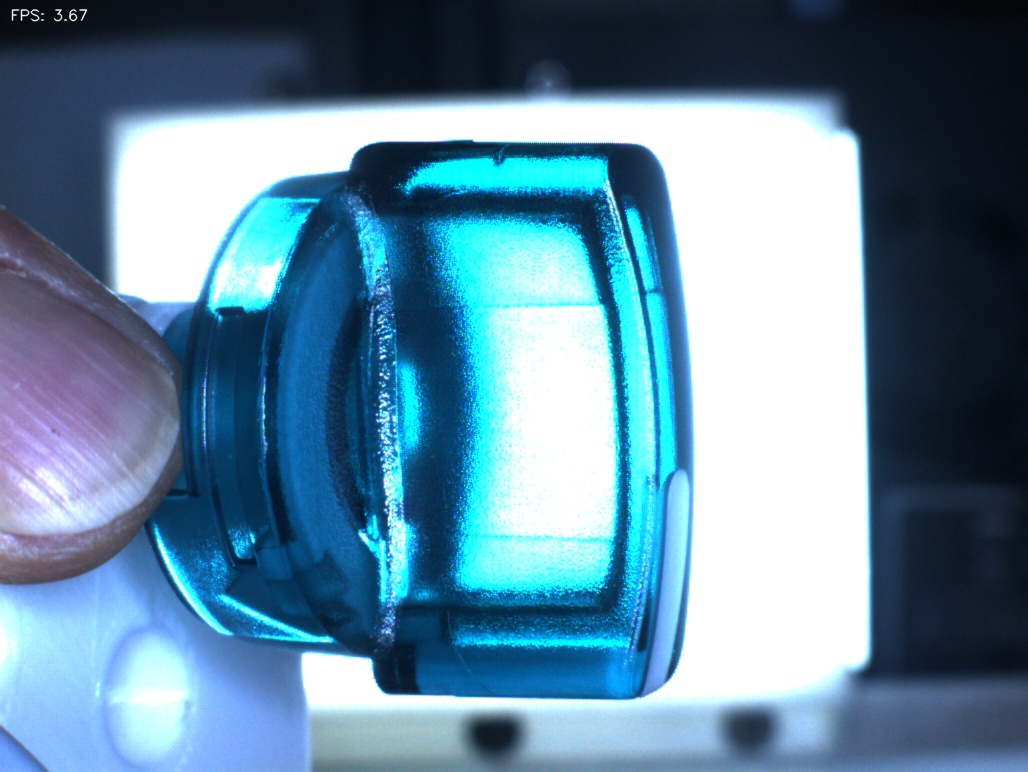Bulle: (468, 112, 541, 195)
